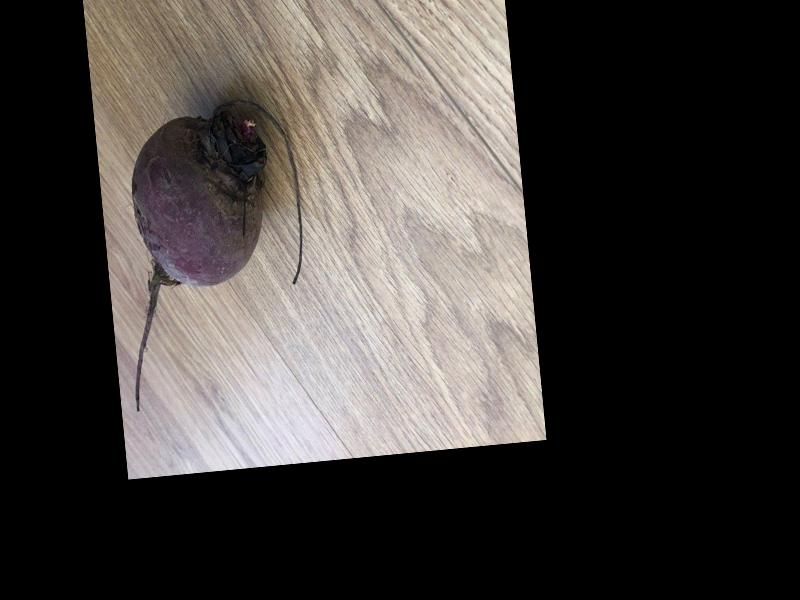Beet: (108, 98, 318, 412)
